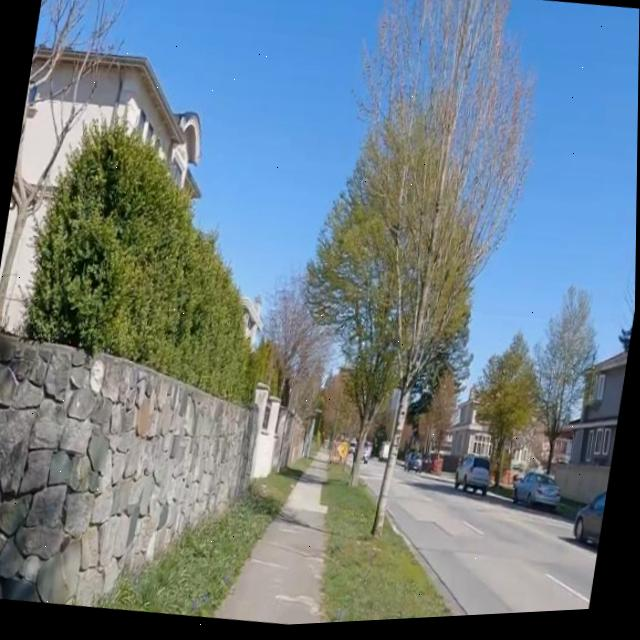Automobile: (577, 497, 609, 553), (515, 477, 561, 513), (457, 460, 491, 500), (409, 456, 423, 476), (382, 445, 391, 463), (365, 451, 369, 467)
Obstacle: (0, 333, 260, 608), (98, 477, 296, 620), (324, 485, 455, 626), (374, 395, 409, 539), (350, 434, 364, 490)
Road: (363, 465, 599, 621)
Sidewalk: (213, 465, 329, 628)
